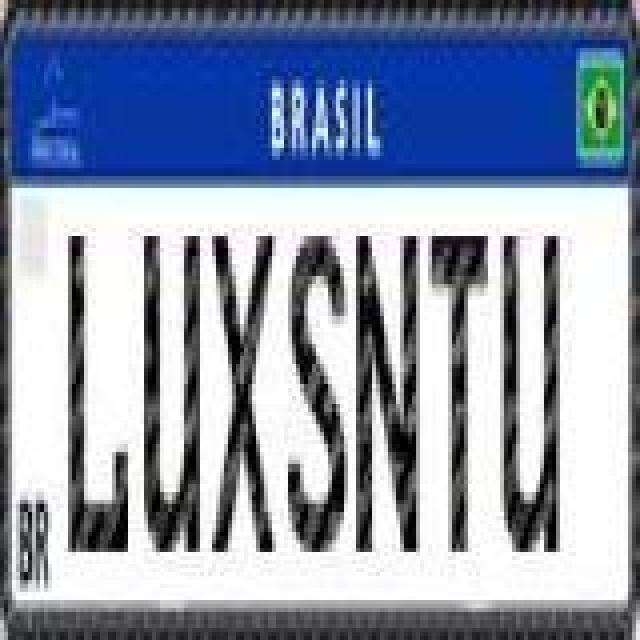L: (66, 230, 126, 554)
N: (356, 230, 420, 554)
S: (284, 230, 348, 554)
T: (426, 230, 486, 554)
U: (142, 230, 202, 554), (498, 230, 558, 554)
X: (210, 230, 278, 554)
